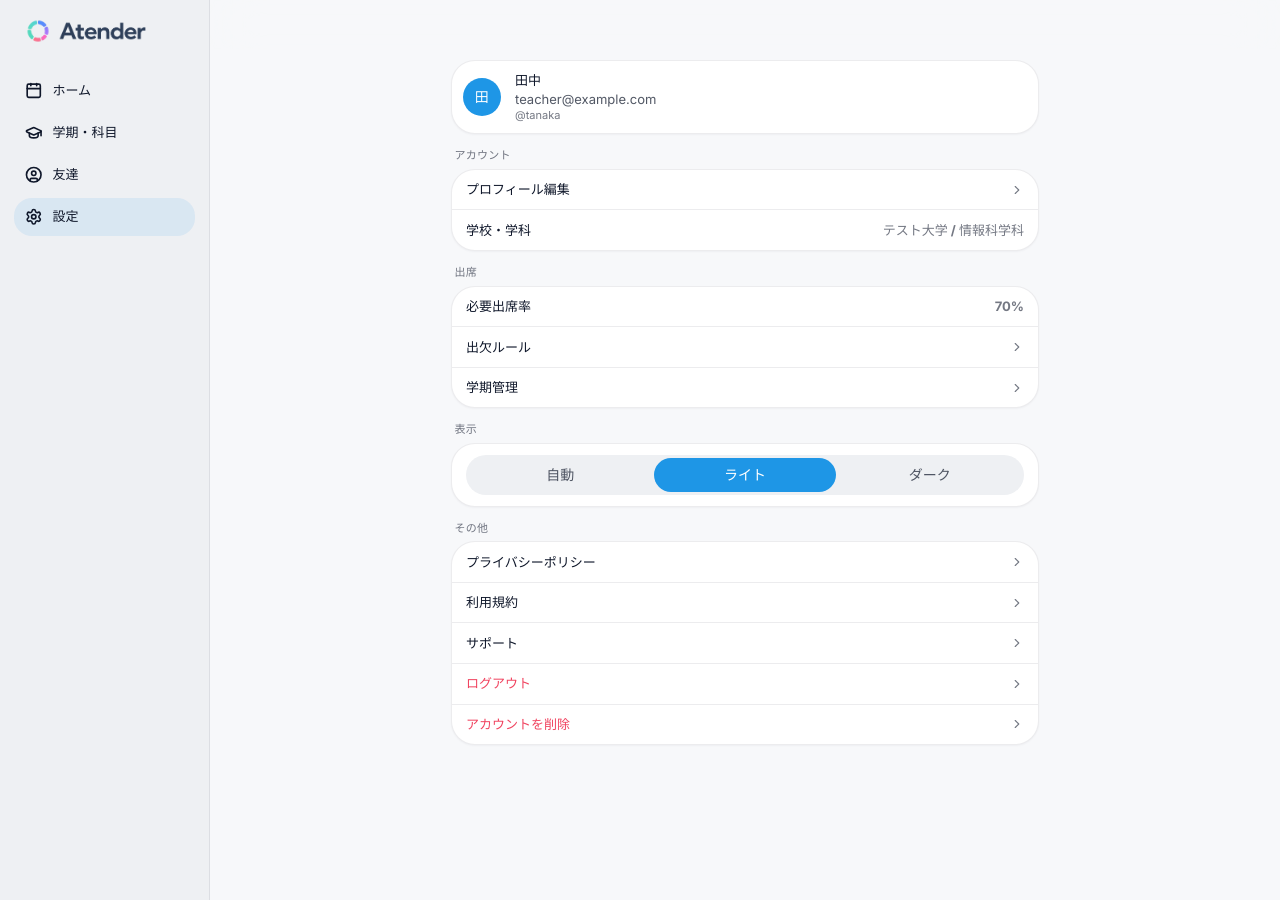
it: [T] template browser (entry E1) › [T3] card content, no author handle
Click the button "学期管理": (492, 387) [452,368,1038,407]
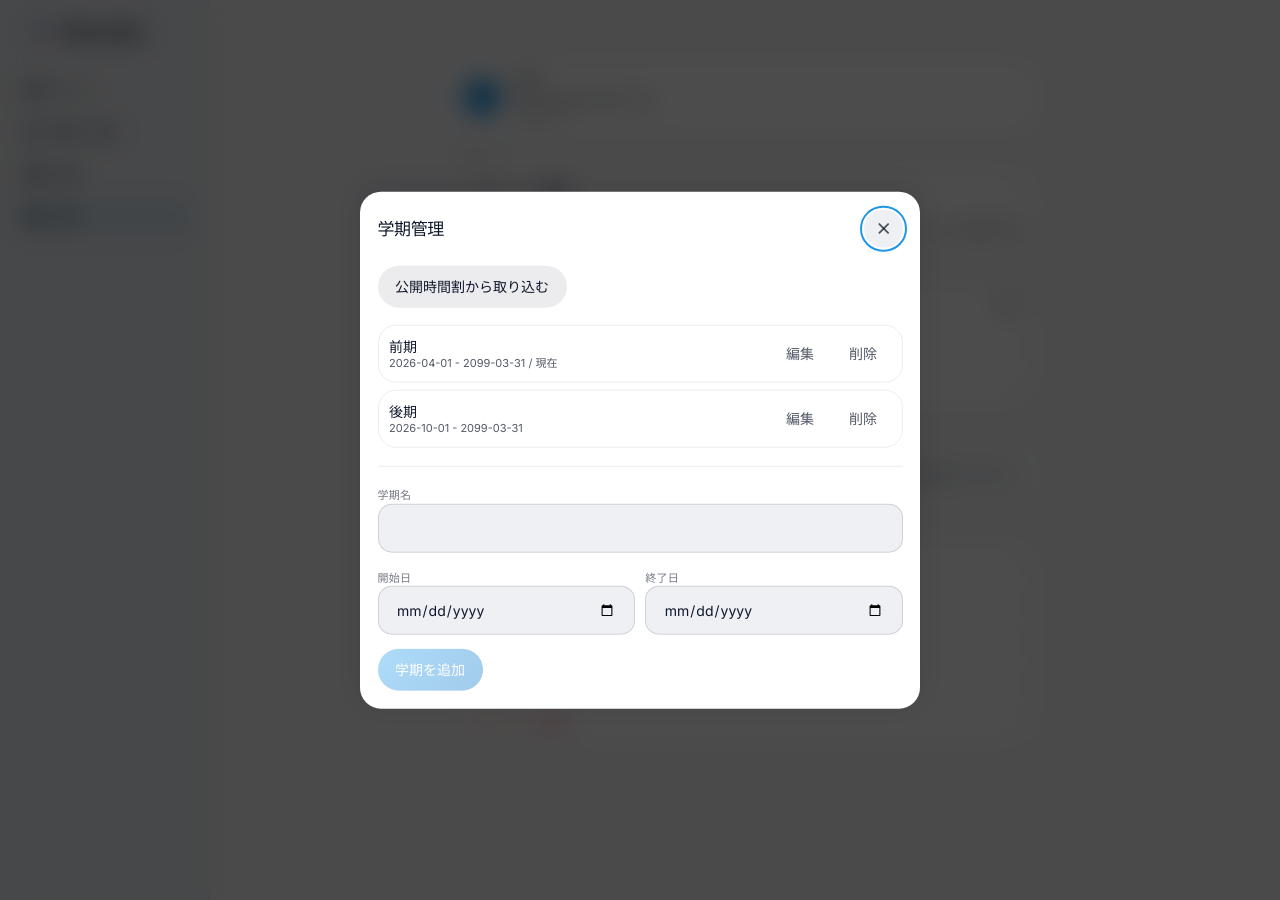
Expected: the button with test id "semester-list-import-template" is enabled
Click the button with test id "semester-list-import-template": (472, 286) [378,265,566,307]
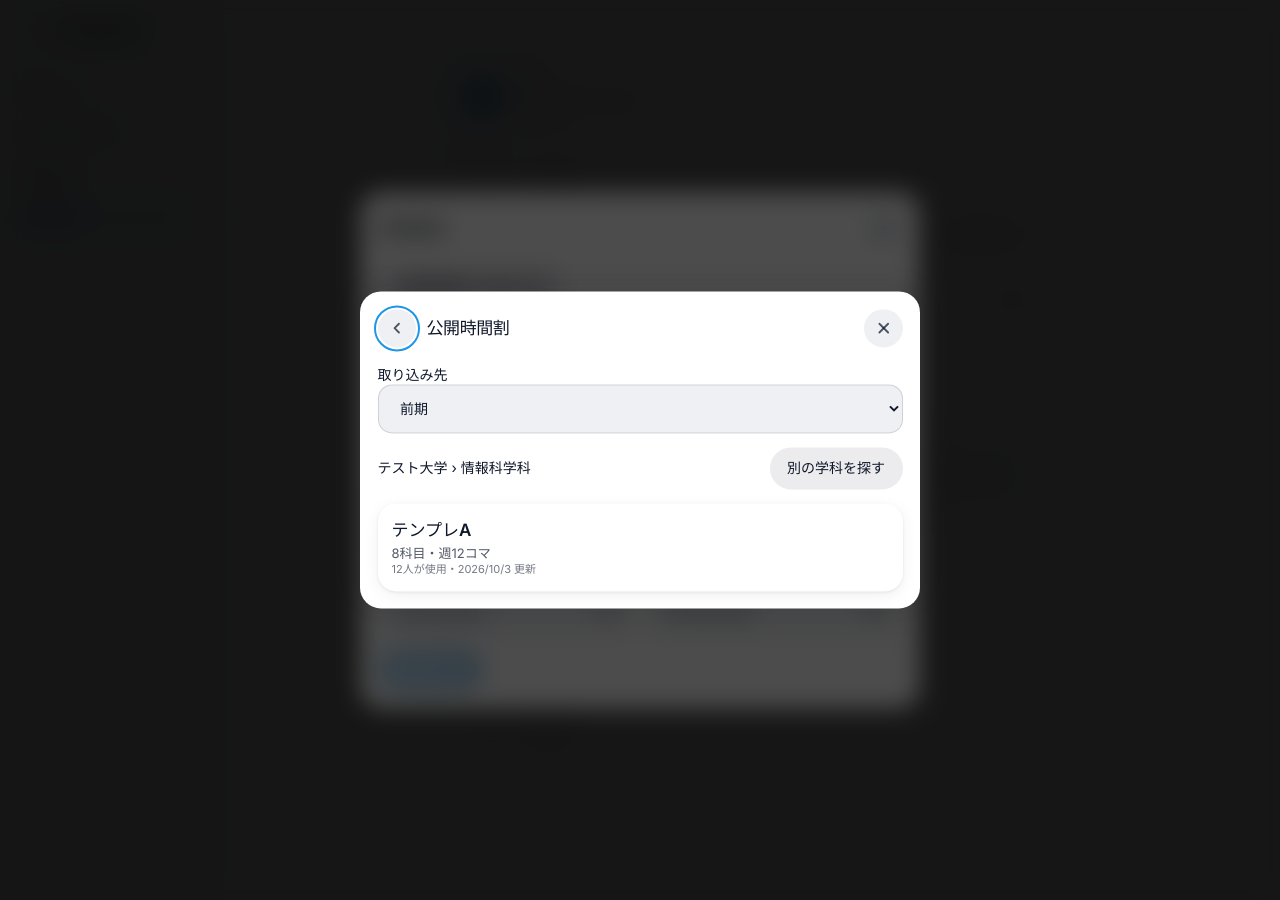
Expected: the heading "公開時間割" is shown, [426,315,509,341]
Expected: the text "テンプレA" is shown, [392,520,471,540]
Expected: the text "8科目・週12コマ" is shown, [392,545,491,561]
